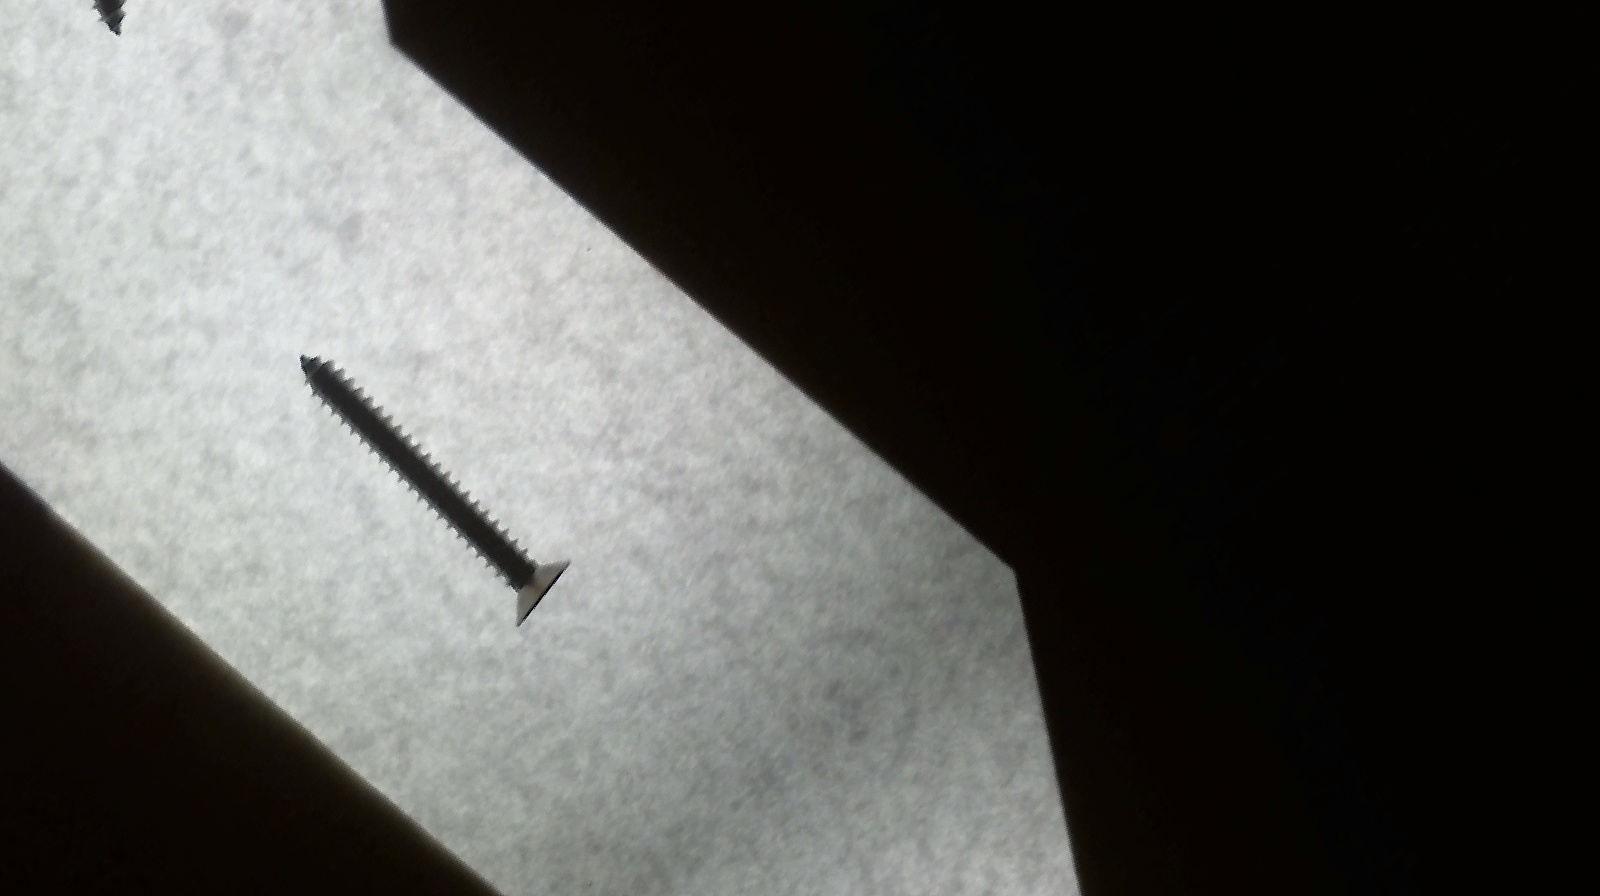S002: (279, 256, 598, 693)
